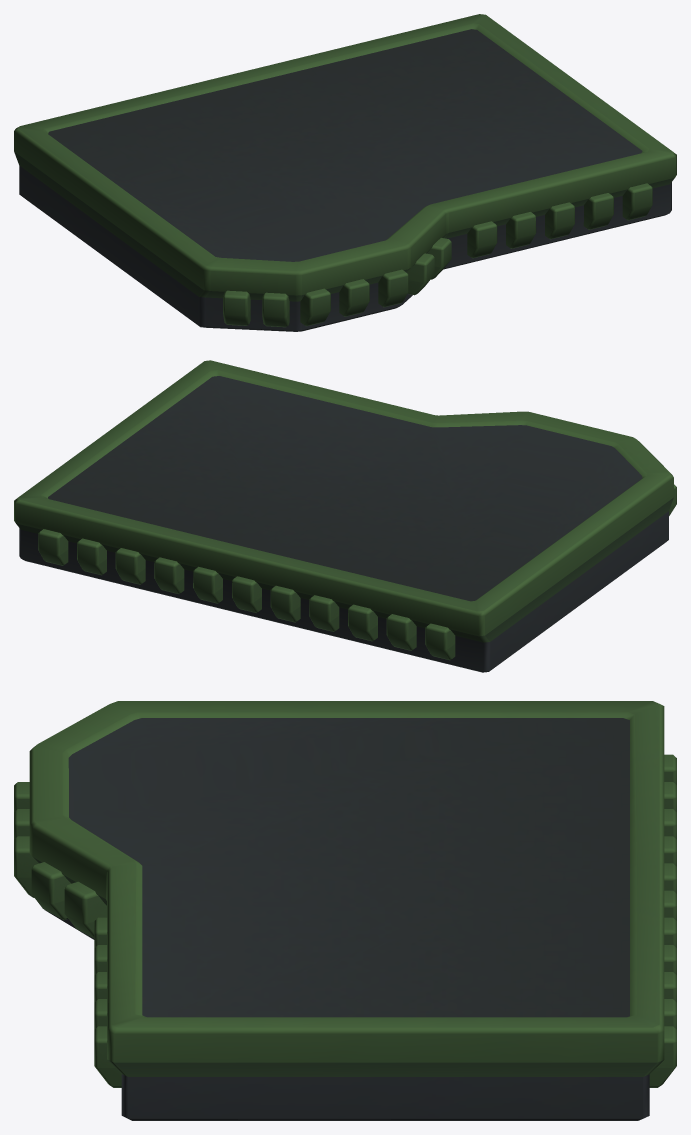
Rendered from appartment_type2_roof_type2_flat_brown.fbx.
The picture shows the model from 3 angles, top to bottom: view 1: azimuth 30°, elevation 25°; view 2: azimuth 150°, elevation 25°; view 3: azimuth 270°, elevation 25°; orthographic projection. The views are drawn at different scales.
Visible parts, largest first — view 1: appartment_type2_roof_type2_flat_brown; view 2: appartment_type2_roof_type2_flat_brown; view 3: appartment_type2_roof_type2_flat_brown.
Boxes of the visible parts, x1,y1,x2,y2 form: appartment_type2_roof_type2_flat_brown: (14,14,676,331); appartment_type2_roof_type2_flat_brown: (14,360,676,672); appartment_type2_roof_type2_flat_brown: (14,701,676,1120).
Bounding box in the file's own units: 1217 × 160 × 1032.
